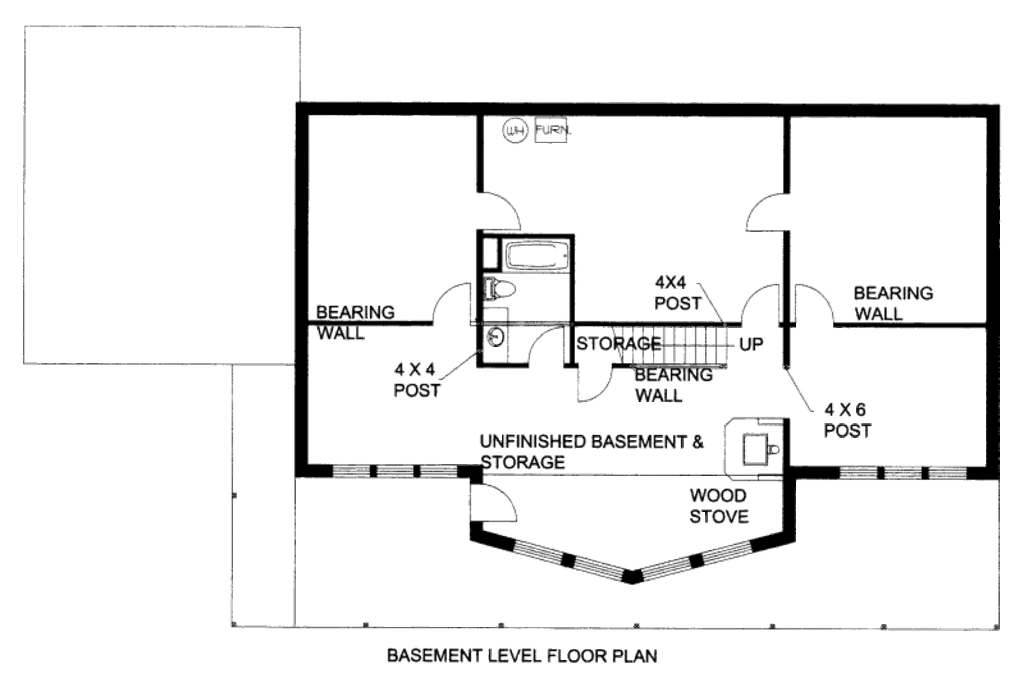door: (423, 277, 477, 329), (790, 274, 842, 327), (520, 318, 568, 367), (738, 193, 792, 235), (469, 479, 519, 521), (476, 185, 522, 229), (738, 285, 785, 328), (568, 361, 616, 402)
large_sink: (478, 279, 519, 301)
small_sink: (481, 318, 511, 365)
stairs: (601, 324, 743, 371)
tub: (501, 236, 568, 275)
window: (512, 538, 760, 582), (842, 452, 974, 490), (329, 463, 468, 484)
